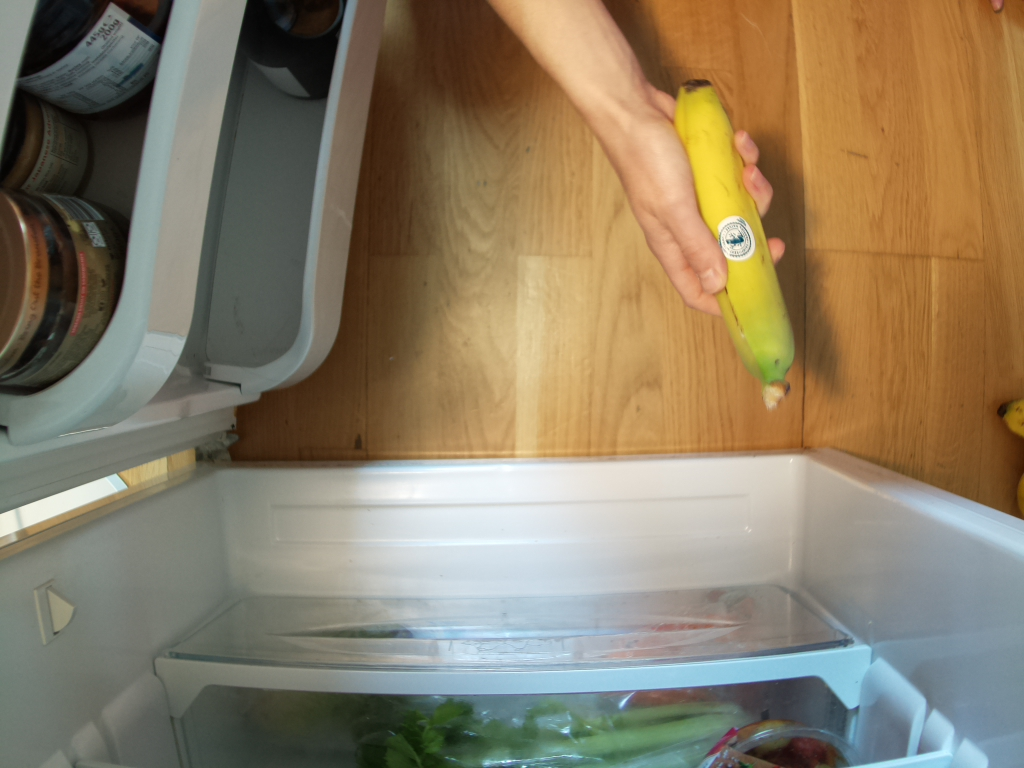banana-unripe: (673, 77, 803, 403)
